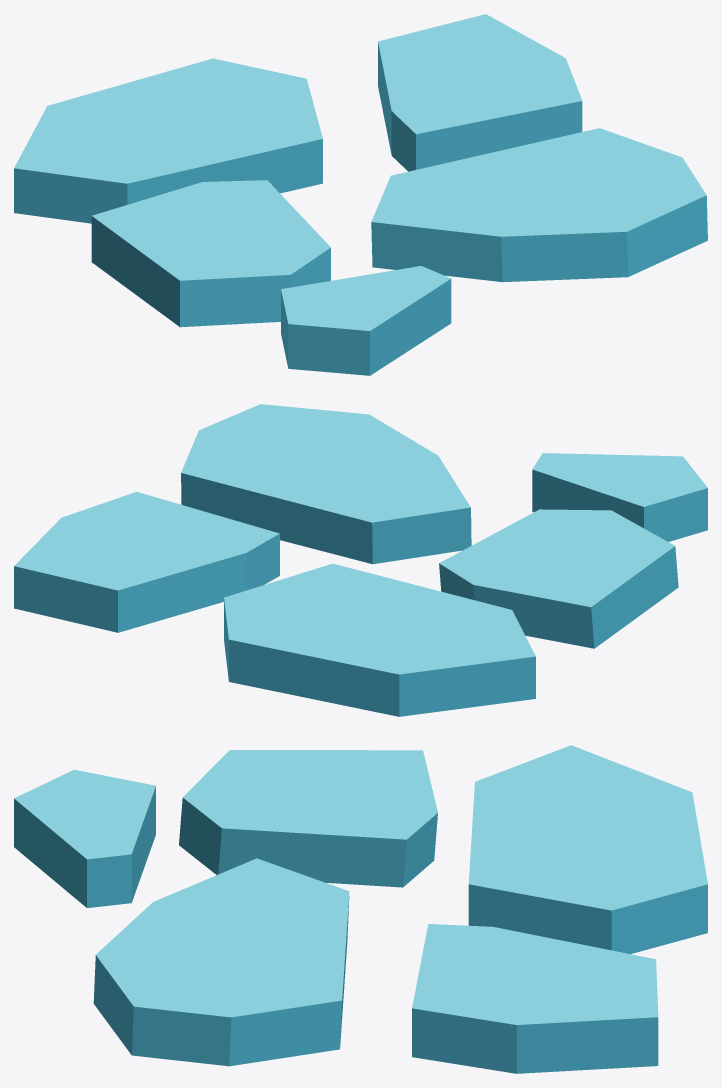
File: decor_001.fbx
3 renders of one model, top to bottom at view 1: azimuth 30°, elevation 25°; view 2: azimuth 150°, elevation 25°; view 3: azimuth 270°, elevation 25°, orthographic. The views are drawn at different scales.
Parts seen in each view (by area): view 1: decor_001; view 2: decor_001; view 3: decor_001.
Boxes of the visible parts, x1=… form: decor_001: x1=14, y1=14, x2=707, y2=375; decor_001: x1=14, y1=404, x2=707, y2=716; decor_001: x1=14, y1=745, x2=707, y2=1073.
Size of the model in its own units: 223 by 18.13 by 234.
